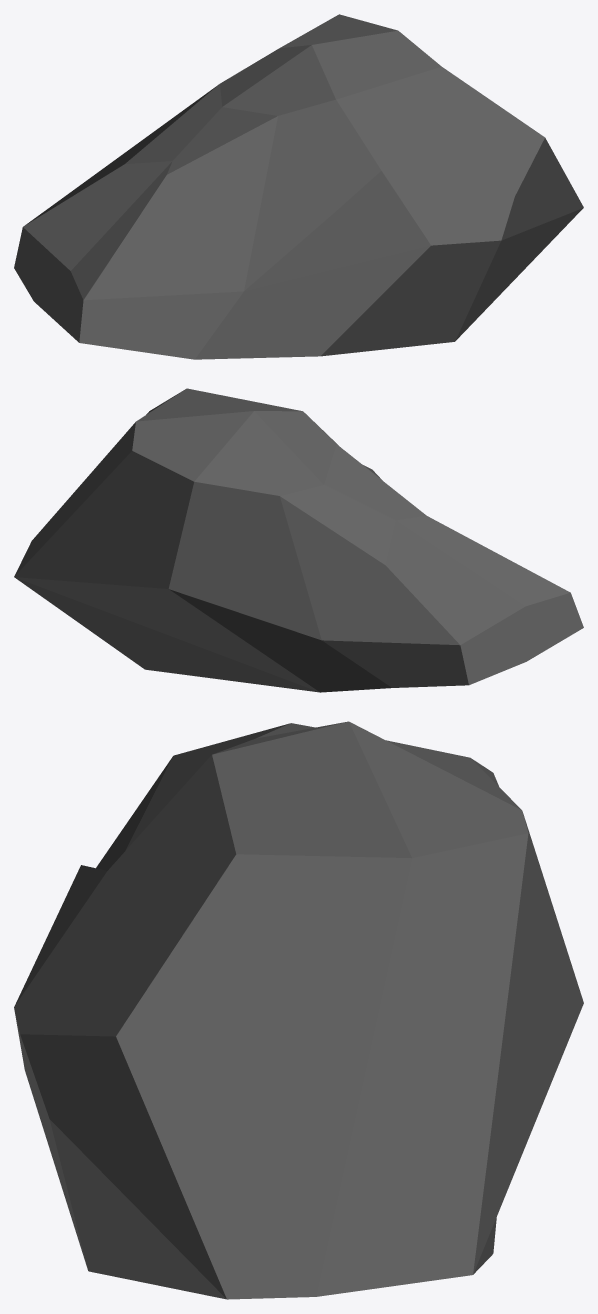
The model's file is stone_5.fbx.
The picture shows the model from 3 angles, top to bottom: view 1: azimuth 30°, elevation 25°; view 2: azimuth 150°, elevation 25°; view 3: azimuth 270°, elevation 25°; orthographic projection. The views are drawn at different scales.
Visible parts, largest first — view 1: stone_5; view 2: stone_5; view 3: stone_5.
Part boxes in pixels (x1,y1,x2,y2): stone_5: (14,14,583,359); stone_5: (14,388,583,692); stone_5: (14,721,583,1299).
Bounding box in the file's own units: 57.36 × 28.95 × 29.31.
